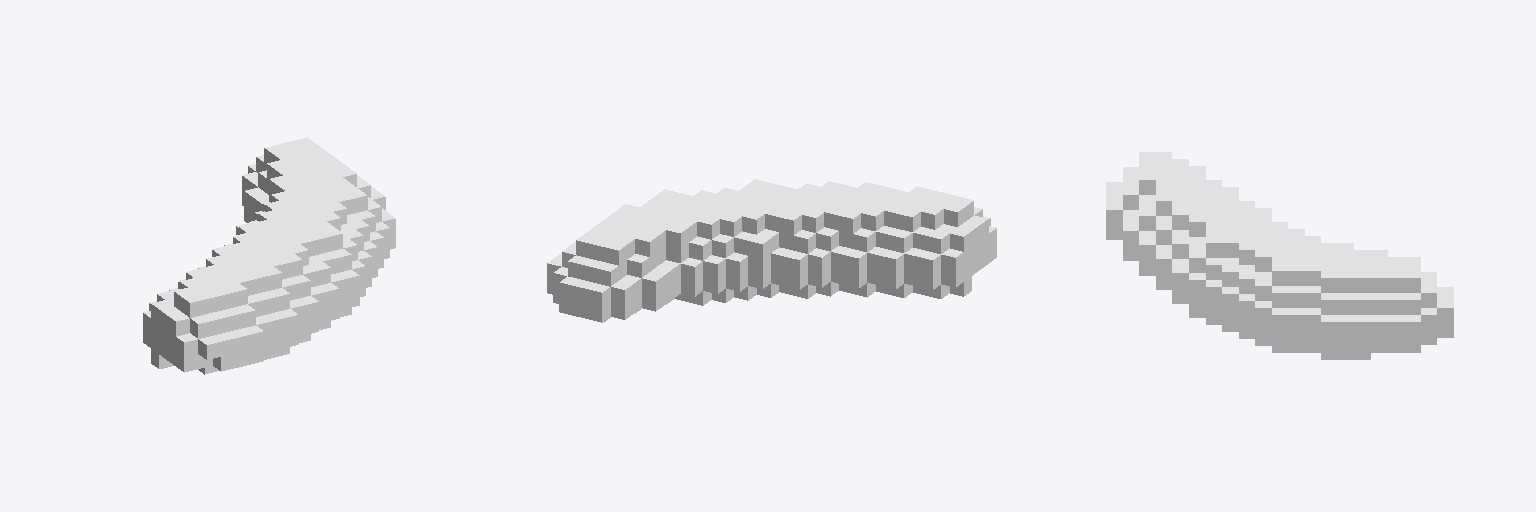
File: coocked_sausage.obj
3 renders of one model, left to right at view 1: azimuth 30°, elevation 25°; view 2: azimuth 150°, elevation 25°; view 3: azimuth 270°, elevation 25°, orthographic.
Visible parts, largest first — view 1: object 1; view 2: object 1; view 3: object 1.
Part boxes in pixels (left/top/right/bottom): object 1: left=143, top=137, right=395, bottom=374; object 1: left=547, top=179, right=996, bottom=322; object 1: left=1106, top=152, right=1453, bottom=359.
Size of the model in its own units: 2.1 by 0.5 by 2.1.